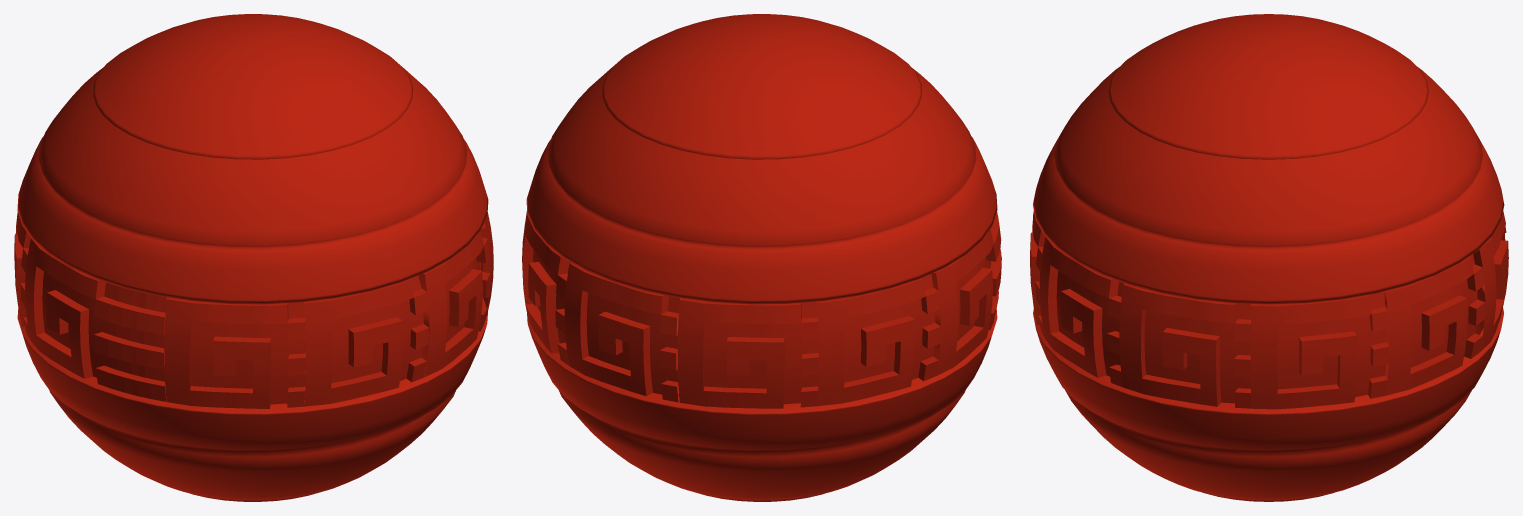
Rendered from ForTylerFixedFaceDown.fbx.
3 views of the same model, side by side, from view 1: azimuth 30°, elevation 25°; view 2: azimuth 150°, elevation 25°; view 3: azimuth 270°, elevation 25° (orthographic).
Parts seen in each view (by area): view 1: pCylinder2; view 2: pCylinder2; view 3: pCylinder2.
Part boxes in pixels (left/top/right/bottom): pCylinder2: left=14, top=14, right=493, bottom=501; pCylinder2: left=522, top=14, right=1001, bottom=501; pCylinder2: left=1030, top=14, right=1508, bottom=501.
Bounding box in the file's own units: 1.98 × 2.01 × 1.97.
